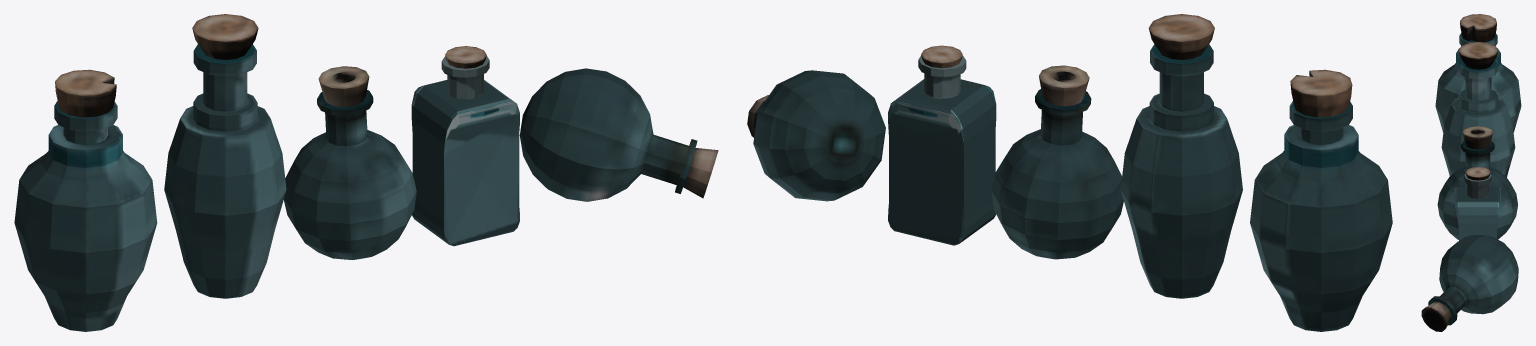
File: bottles.glb
3 views of the same model, side by side, from view 1: azimuth 30°, elevation 25°; view 2: azimuth 150°, elevation 25°; view 3: azimuth 270°, elevation 25° (orthographic). The views are drawn at different scales.
Visible parts, largest first — view 1: Large Round Bottle_Baked, Large_round_bottle_Baked, round_bottle_horiz_Baked, rectangle_bottle_Baked, Roud_bottle.YELLOW_Baked, tapon_botella1.004_Baked, tapon_botella1_Baked, tapon_botella1.005_Baked; view 2: Large Round Bottle_Baked, Large_round_bottle_Baked, rectangle_bottle_Baked, Roud_bottle.YELLOW_Baked, round_bottle_horiz_Baked, tapon_botella1.004_Baked, tapon_botella1_Baked, tapon_botella1.005_Baked; view 3: round_bottle_horiz_Baked, Large_round_bottle_Baked, Roud_bottle.YELLOW_Baked, Large Round Bottle_Baked, rectangle_bottle_Baked, tapon_botella1.004_Baked, tapon_botella1_Baked, tapon_botella1.005_Baked.
Boxes of the visible parts, box(x1,y1,x2,y2) form: Large Round Bottle_Baked: box(14, 101, 157, 331); Large_round_bottle_Baked: box(164, 44, 286, 298); round_bottle_horiz_Baked: box(519, 68, 718, 201); rectangle_bottle_Baked: box(411, 56, 519, 246); Roud_bottle.YELLOW_Baked: box(283, 66, 416, 259); tapon_botella1.004_Baked: box(55, 69, 116, 117); tapon_botella1_Baked: box(192, 14, 258, 59); tapon_botella1.005_Baked: box(445, 46, 486, 68); Large Round Bottle_Baked: box(1250, 101, 1392, 331); Large_round_bottle_Baked: box(1120, 44, 1242, 298); rectangle_bottle_Baked: box(888, 55, 996, 245); Roud_bottle.YELLOW_Baked: box(991, 65, 1123, 259); round_bottle_horiz_Baked: box(747, 70, 885, 201); tapon_botella1.004_Baked: box(1290, 69, 1352, 117); tapon_botella1_Baked: box(1148, 14, 1214, 59); tapon_botella1.005_Baked: box(921, 45, 962, 68); round_bottle_horiz_Baked: box(1421, 234, 1518, 331); Large_round_bottle_Baked: box(1441, 60, 1515, 177); Roud_bottle.YELLOW_Baked: box(1437, 126, 1517, 239); Large Round Bottle_Baked: box(1435, 33, 1521, 132); rectangle_bottle_Baked: box(1455, 173, 1500, 240); tapon_botella1.004_Baked: box(1460, 14, 1496, 42); tapon_botella1_Baked: box(1458, 42, 1498, 69); tapon_botella1.005_Baked: box(1465, 167, 1490, 180).
Bounding box in the file's own units: 0.9393 × 0.3481 × 0.2036.
13 materials, 13 textured.
